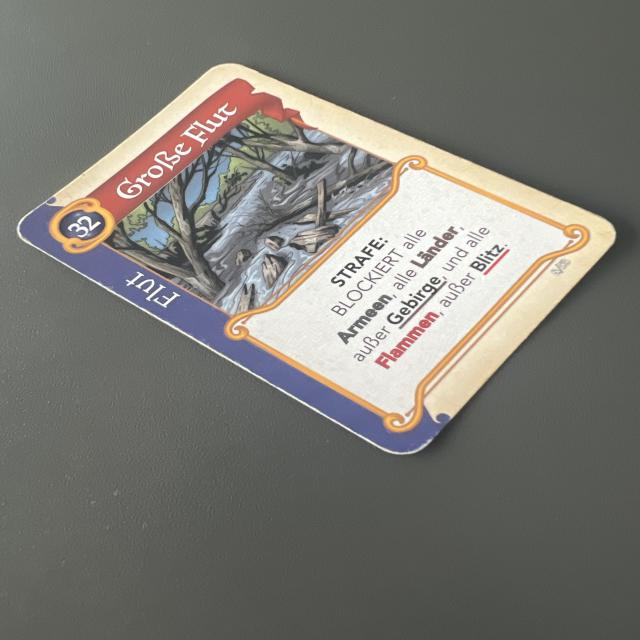Great Flood: (3, 58, 626, 467)
